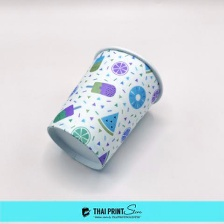paper_cup: (41, 40, 168, 174)
